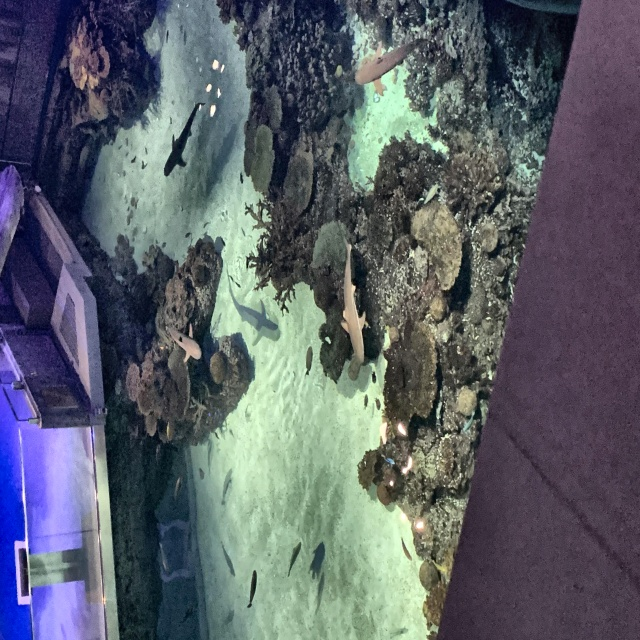fish: (286, 541, 303, 578), (220, 541, 236, 577), (220, 471, 233, 507), (247, 569, 258, 609), (399, 537, 414, 564), (171, 475, 183, 508), (304, 345, 315, 379), (206, 437, 214, 472), (225, 607, 235, 625), (374, 396, 383, 412), (371, 370, 379, 386), (362, 393, 369, 411), (219, 235, 227, 248), (199, 467, 205, 481), (239, 172, 244, 185), (228, 275, 235, 283), (235, 282, 242, 289), (185, 231, 192, 238)
shark: (355, 39, 429, 97), (338, 232, 367, 367), (161, 99, 206, 180), (228, 281, 280, 334), (163, 320, 203, 364)
